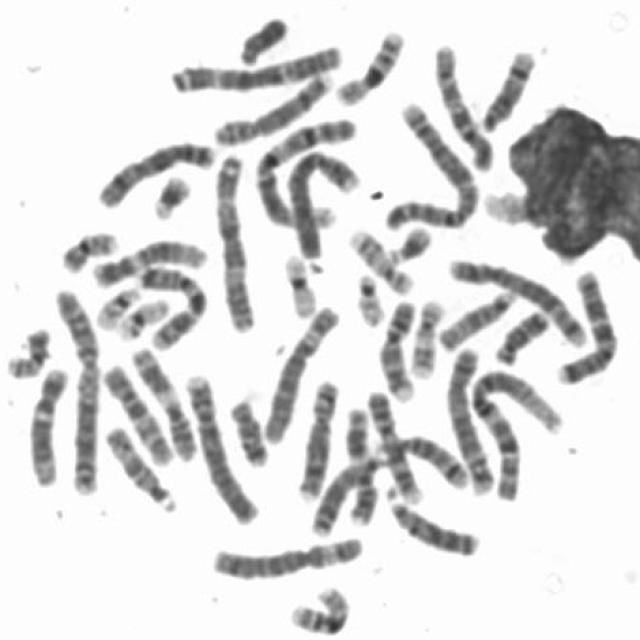A1: (462, 363, 566, 499), (251, 111, 362, 232)
A2: (377, 99, 481, 234), (49, 282, 102, 499)
A3: (165, 38, 347, 96), (210, 149, 258, 333)
B4: (180, 368, 263, 526), (282, 144, 361, 263)
B5: (444, 254, 591, 348), (440, 343, 496, 496)
C10: (95, 355, 176, 469), (429, 40, 496, 174)
C11: (126, 340, 198, 466), (340, 403, 378, 529)
C12: (86, 233, 211, 289), (24, 362, 71, 488)
C6: (260, 300, 342, 446), (204, 529, 368, 584)
C7: (553, 266, 618, 386), (130, 259, 210, 352)
C8: (208, 67, 336, 147), (293, 372, 342, 502)
C9: (362, 388, 422, 506), (373, 294, 417, 404)
D13: (379, 484, 482, 558), (306, 454, 389, 537)
D14: (474, 41, 538, 134), (381, 432, 470, 496)
D15: (99, 421, 180, 515), (436, 285, 517, 354)
E16: (329, 23, 408, 108), (282, 580, 353, 637)
E17: (344, 223, 416, 296), (406, 294, 448, 380)
E18: (489, 306, 553, 367), (224, 392, 270, 469)
F19: (278, 248, 320, 319), (112, 294, 172, 342)
F20: (56, 225, 120, 275), (1, 322, 53, 381)
G21: (147, 167, 195, 221), (383, 222, 433, 266)
G22: (92, 281, 144, 330), (350, 269, 388, 329)
X: (93, 134, 219, 211)
Y: (230, 8, 293, 69)
